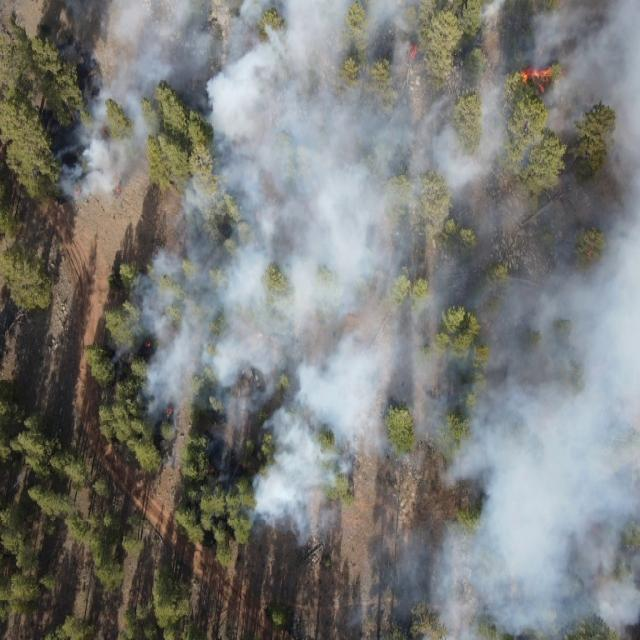fire: (516, 62, 558, 98), (406, 40, 419, 60), (585, 244, 599, 262), (164, 407, 174, 419), (142, 340, 152, 351), (74, 188, 84, 198), (112, 187, 121, 197)
smoke: (226, 0, 478, 486), (477, 0, 640, 640), (49, 0, 225, 209), (160, 207, 227, 483), (379, 516, 478, 640), (251, 487, 353, 559), (124, 249, 162, 429), (338, 594, 379, 636), (100, 339, 124, 366)
